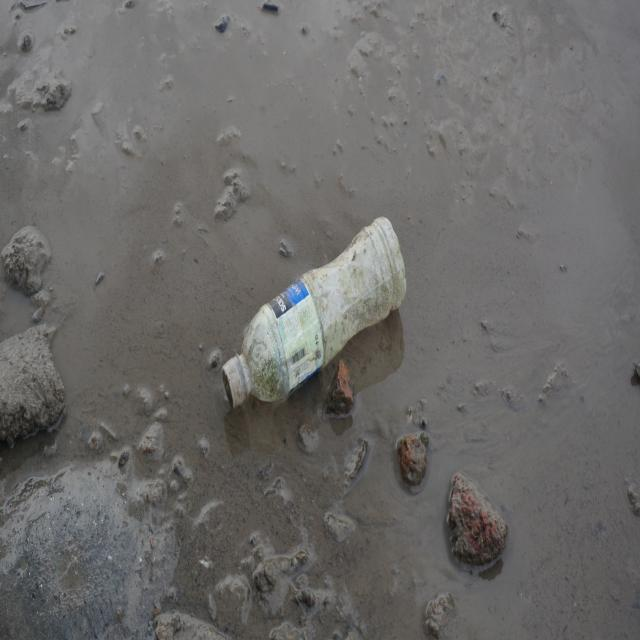Botol Plastik: (222, 213, 408, 412)
